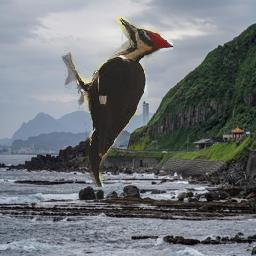Woodpecker: (61, 17, 173, 187)
